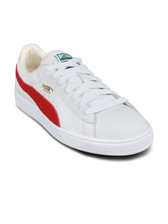shoes: (9, 38, 157, 158)
